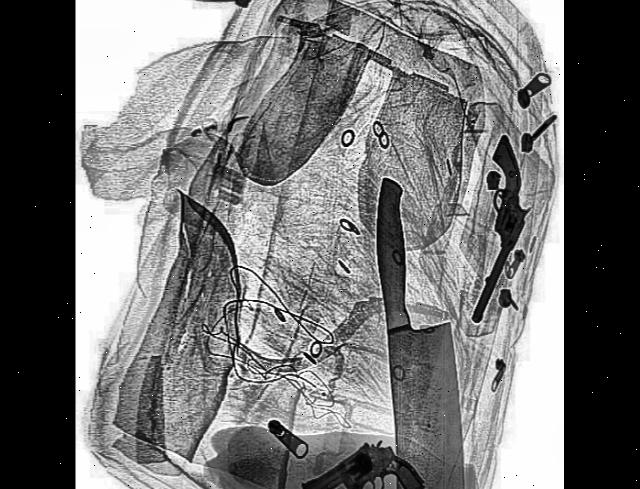Gun: (454, 124, 543, 337), (295, 426, 425, 489)
Knife: (367, 166, 472, 489)
